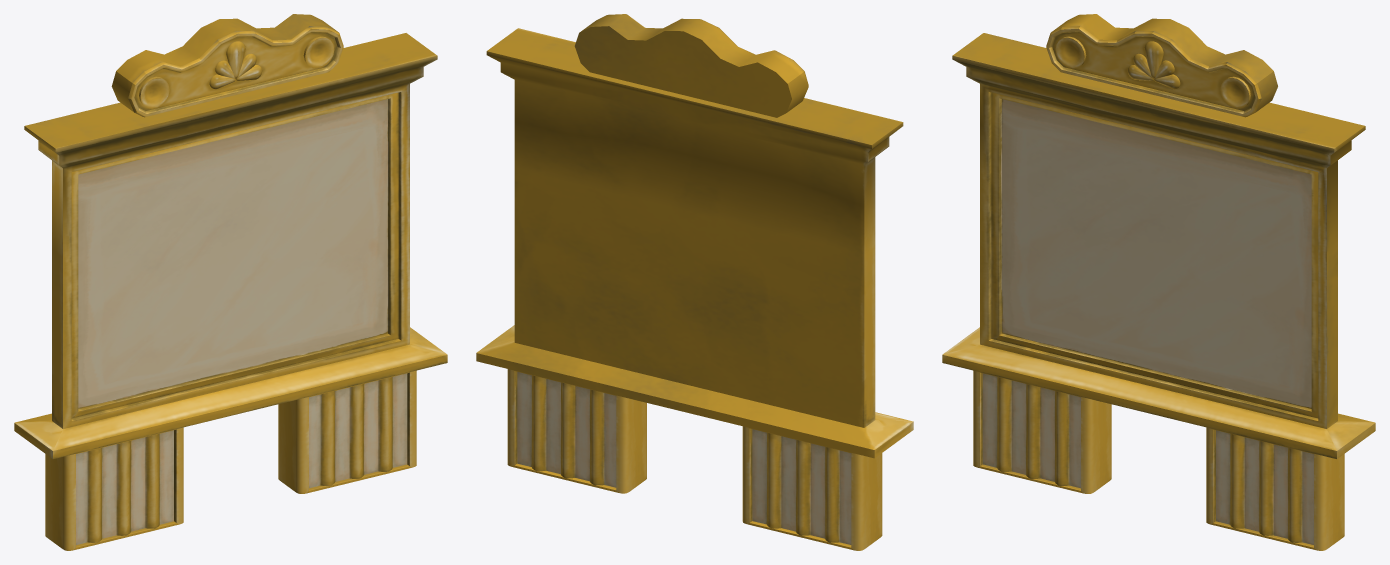
The model's file is menu_howToPlayNew.fbx.
3 views of the same model, side by side, from view 1: azimuth 30°, elevation 25°; view 2: azimuth 150°, elevation 25°; view 3: azimuth 330°, elevation 25° (orthographic).
Parts seen in each view (by area): view 1: Box001; view 2: Box001; view 3: Box001.
Boxes of the visible parts, x1,y1,x2,y2 form: Box001: [14, 14, 447, 550]; Box001: [476, 14, 913, 550]; Box001: [942, 14, 1375, 550].
Bounding box in the file's own units: 271 × 310 × 46.16.
1 material, 1 textured.
